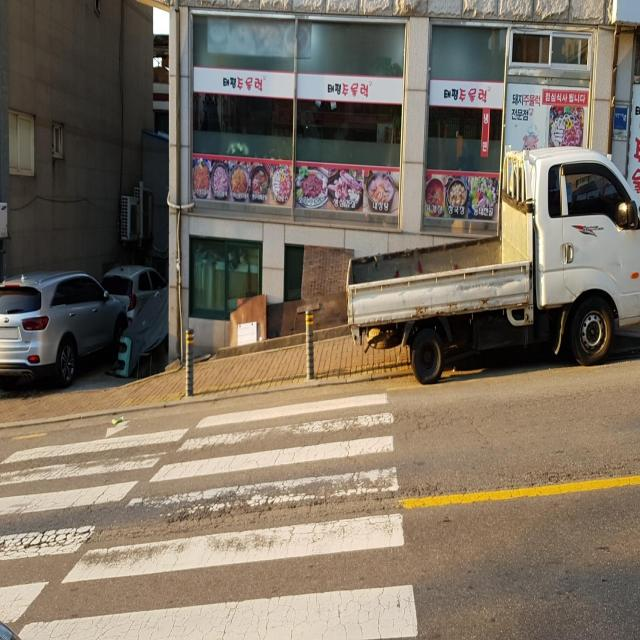횡단보도: (0, 392, 418, 640)
